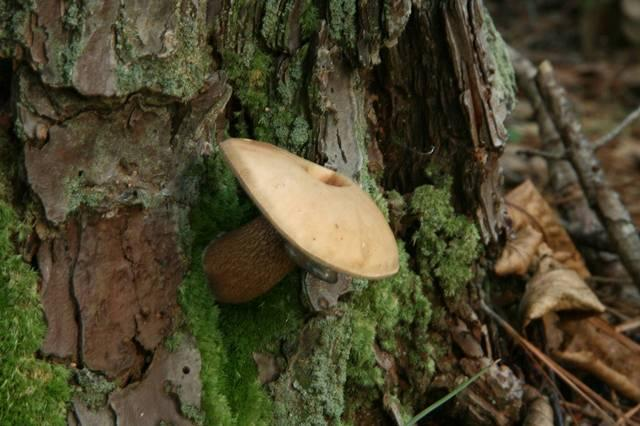Non-edible Mushroom: (213, 135, 401, 313)
